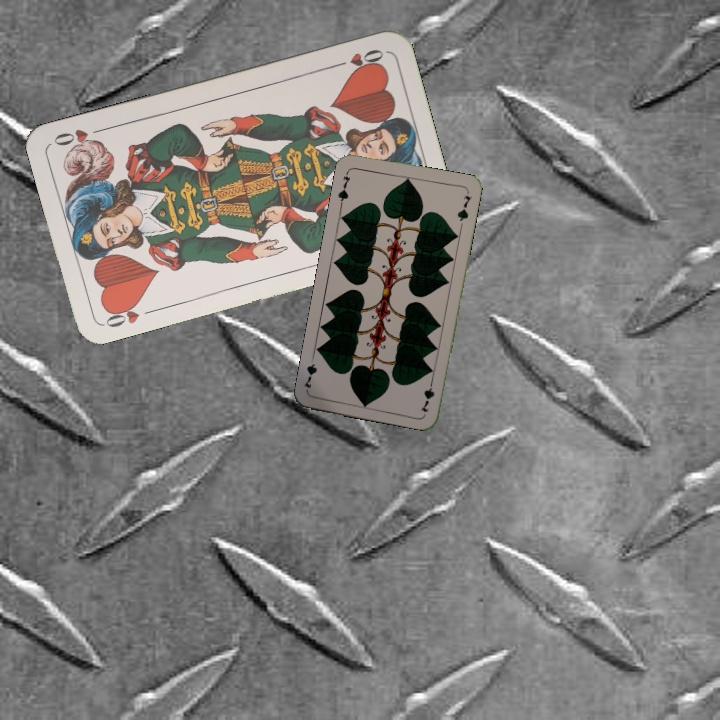G7: (417, 374, 437, 415), (334, 167, 353, 207)
HO: (100, 297, 158, 330), (329, 45, 387, 73)
